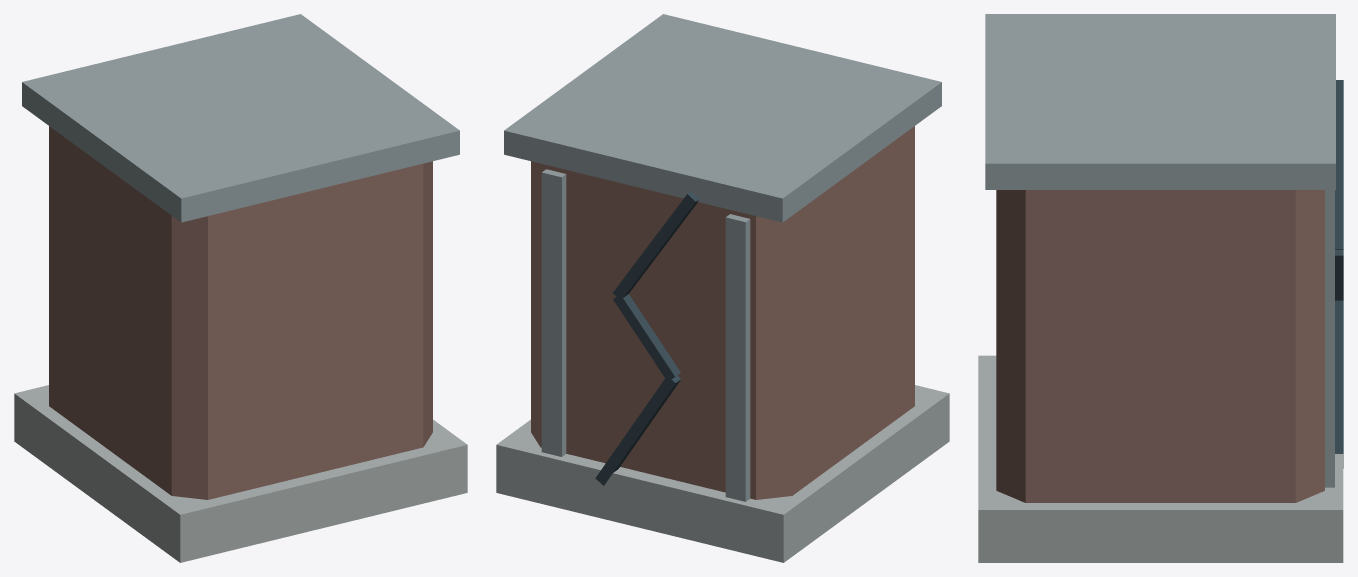
File: wall-destructible-low.glb
3 renders of one model, left to right at view 1: azimuth 30°, elevation 25°; view 2: azimuth 150°, elevation 25°; view 3: azimuth 270°, elevation 25°, orthographic. The views are drawn at different scales.
Visible parts, largest first — view 1: asset_wall-destructible__FP_Baked; view 2: asset_wall-destructible__FP_Baked; view 3: asset_wall-destructible__FP_Baked.
Boxes of the visible parts, x1=… form: asset_wall-destructible__FP_Baked: x1=14, y1=14, x2=467, y2=562; asset_wall-destructible__FP_Baked: x1=496, y1=14, x2=949, y2=562; asset_wall-destructible__FP_Baked: x1=978, y1=14, x2=1343, y2=562.
Bounding box in the file's own units: 1 × 1.2 × 1.
